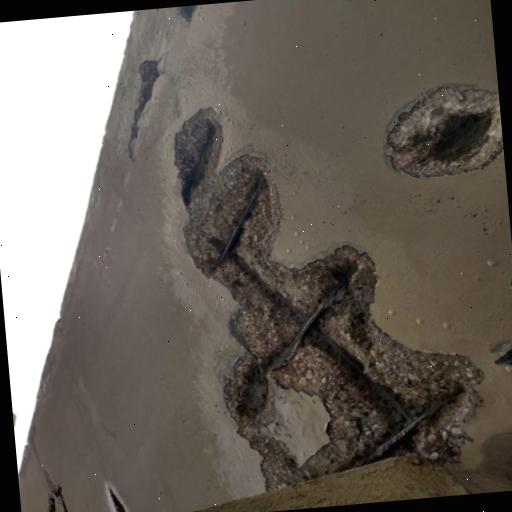spalling: (168, 98, 481, 487), (373, 70, 506, 184)
